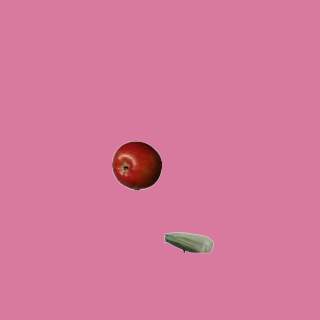Apple Braeburn: (111, 140, 161, 190)
Corn Husk: (163, 217, 213, 267)
